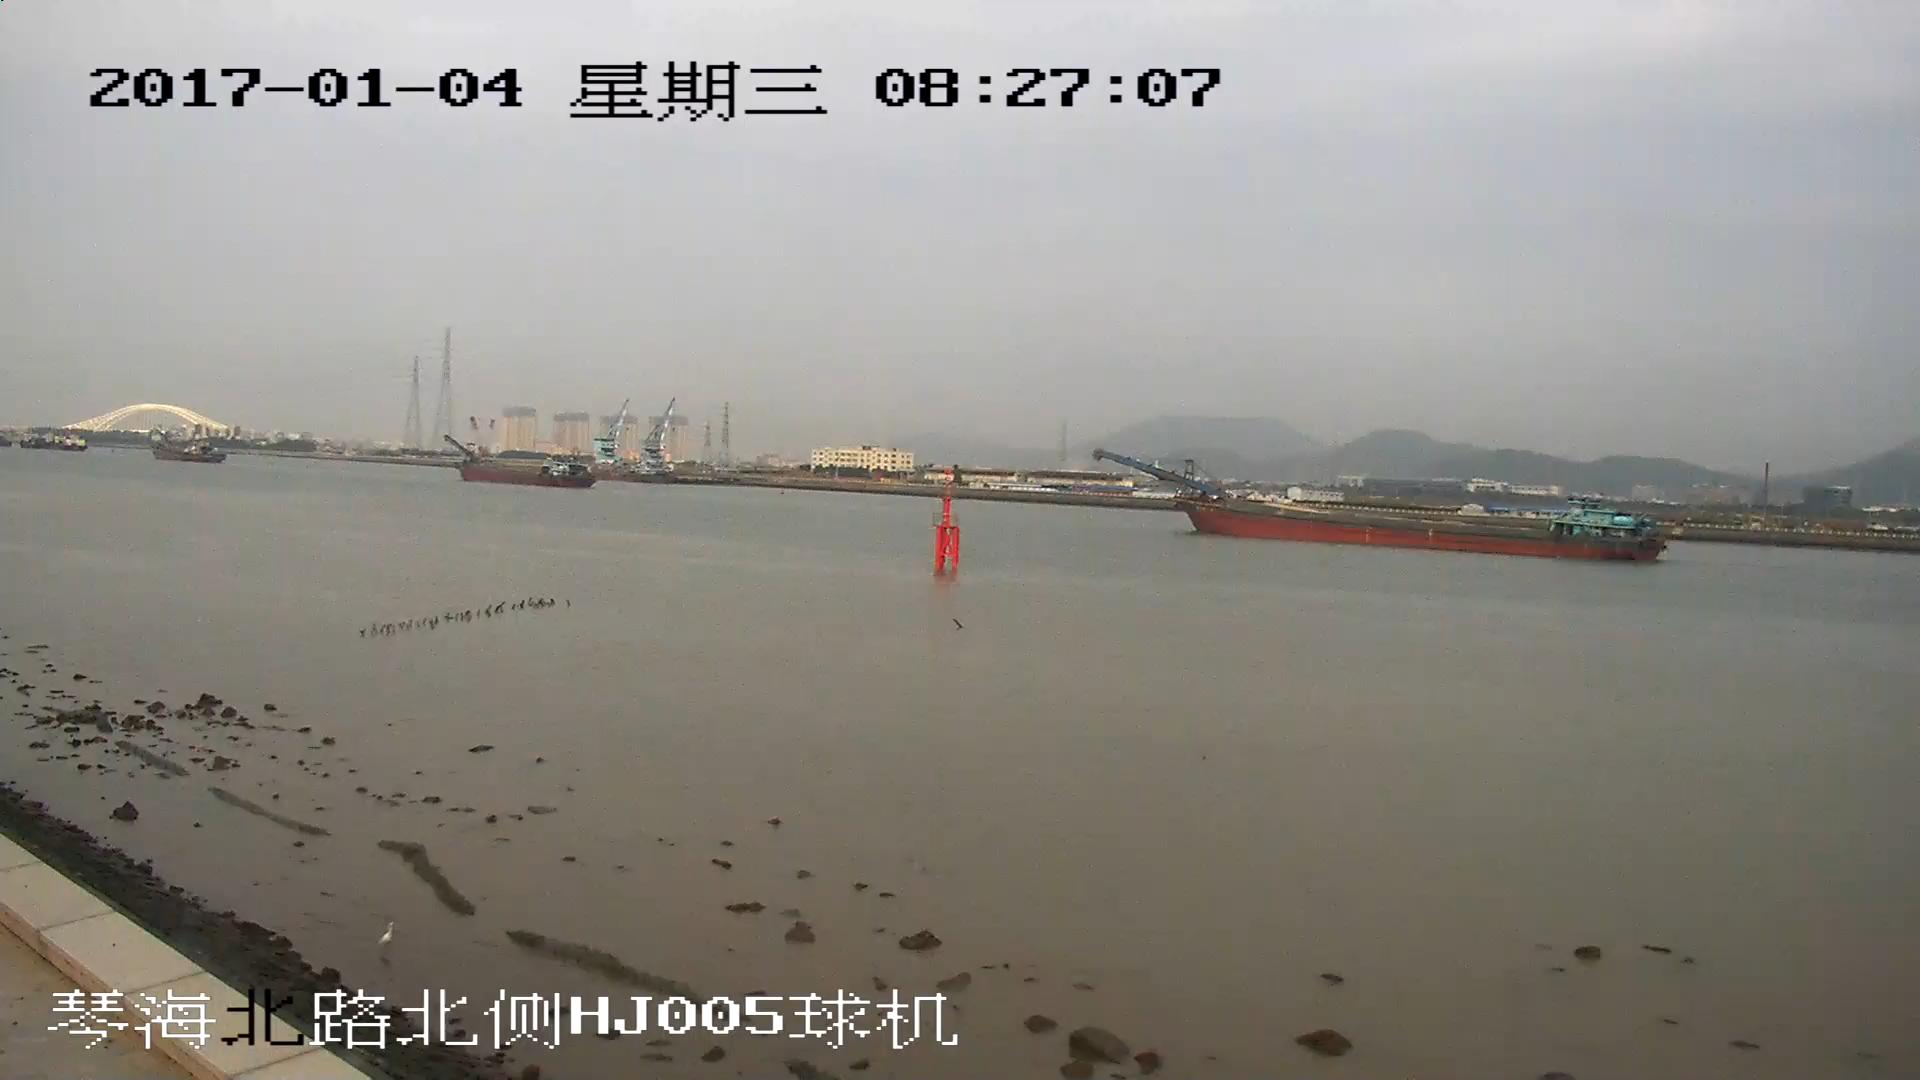bulk cargo carrier: (1099, 450, 1662, 565), (444, 437, 592, 490)
